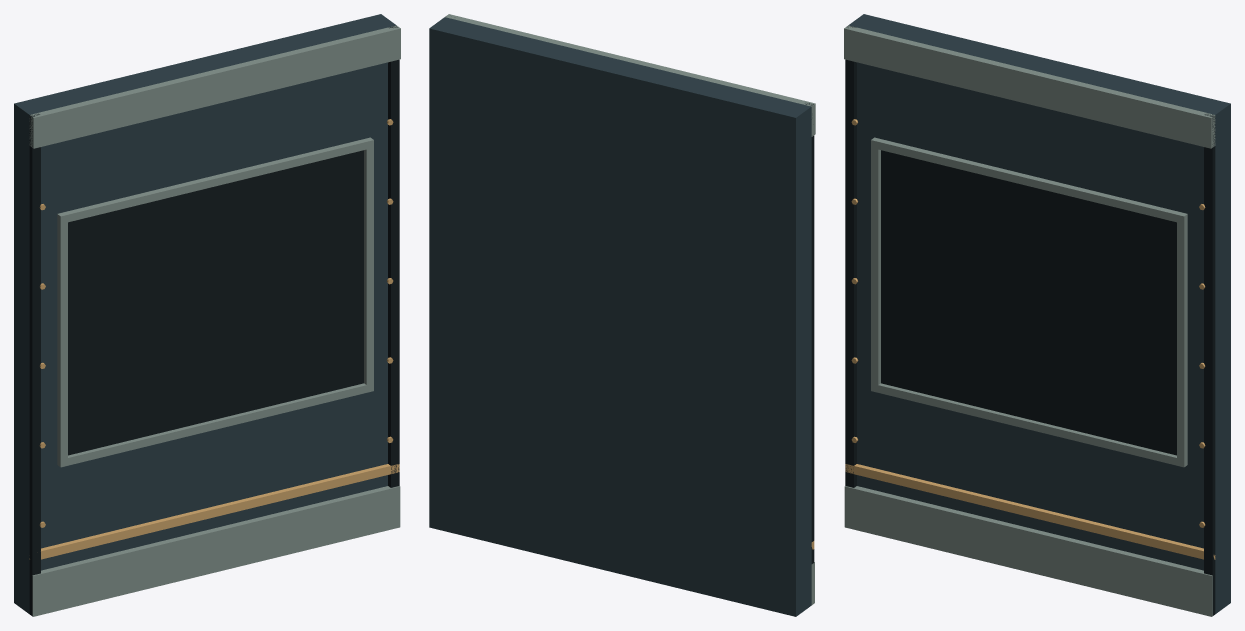
File: wall-bay-3p9.glb
3 renders of one model, left to right at view 1: azimuth 30°, elevation 25°; view 2: azimuth 150°, elevation 25°; view 3: azimuth 330°, elevation 25°, orthographic.
Parts seen in each view (by area): view 1: wall-bay-3p9; view 2: wall-bay-3p9; view 3: wall-bay-3p9.
Boxes of the visible parts, <box> form: wall-bay-3p9: <box>14,14,400,616</box>; wall-bay-3p9: <box>429,14,815,616</box>; wall-bay-3p9: <box>844,14,1230,616</box>.
Bounding box in the file's own units: 3 × 3.9 × 0.28.
